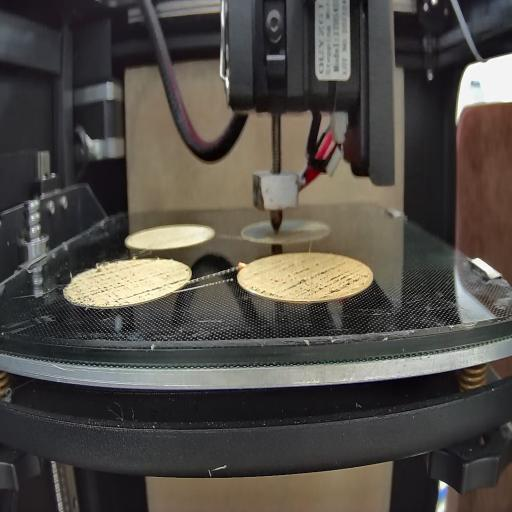under_extrusion: (247, 270, 368, 298), (75, 264, 134, 307), (135, 276, 194, 298)
